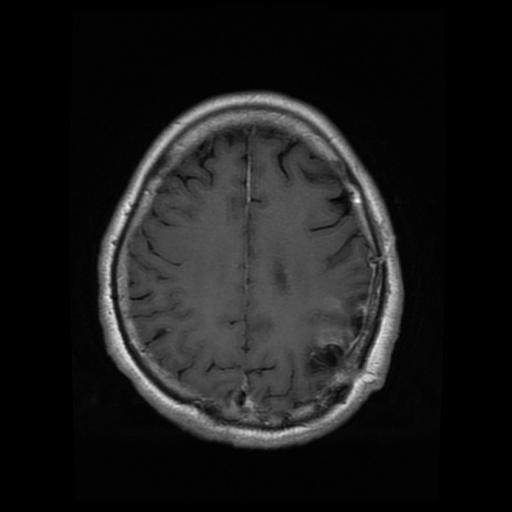Gliomia_tumour: (302, 296, 366, 398)
